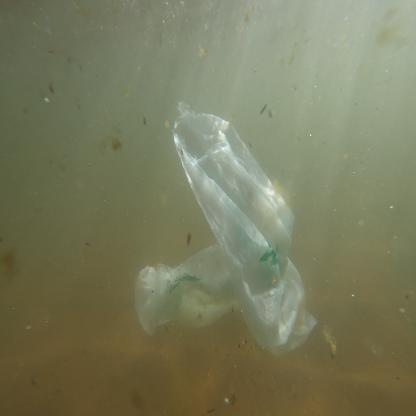Rác: (143, 91, 319, 372)
